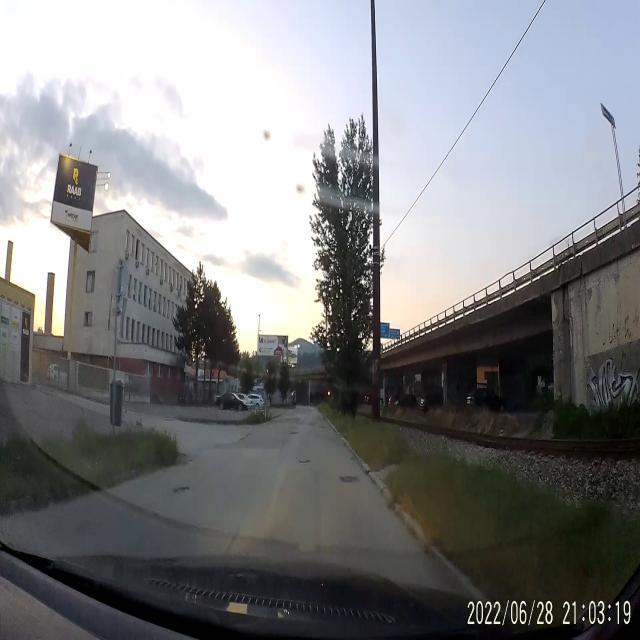Manhole: (338, 474, 359, 484)
Pothole: (169, 479, 190, 495), (296, 452, 312, 468)
